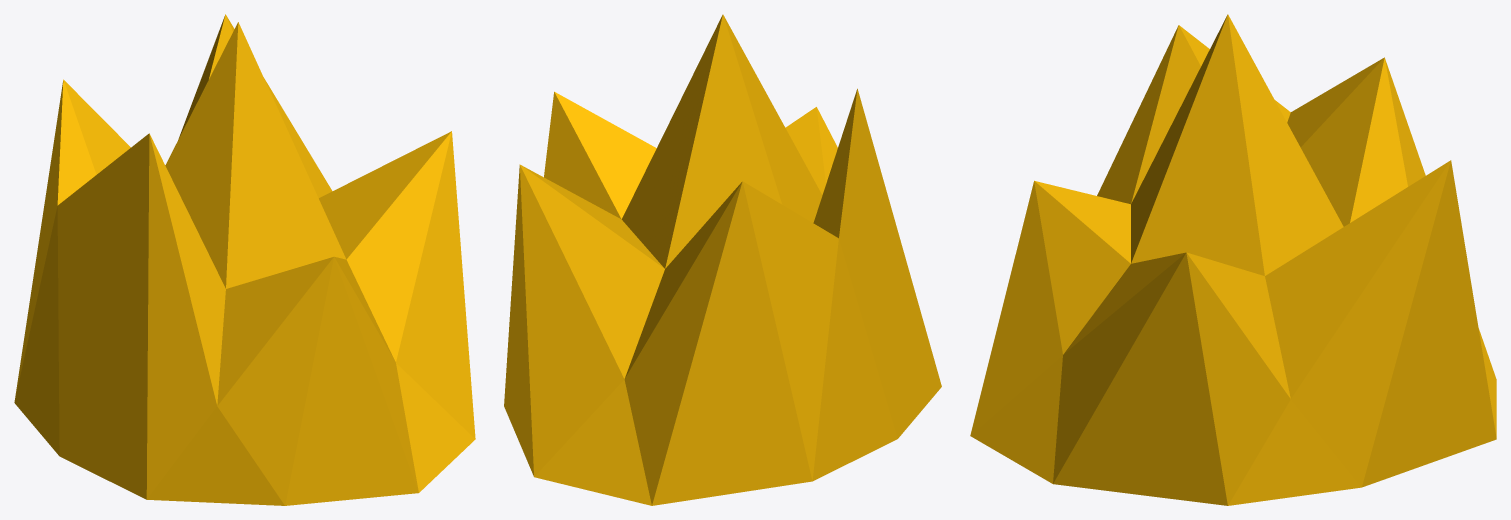
The picture shows the model from 3 angles, left to right: view 1: azimuth 30°, elevation 25°; view 2: azimuth 150°, elevation 25°; view 3: azimuth 270°, elevation 25°; orthographic projection. The views are drawn at different scales.
Visible parts, largest first — view 1: Component_1_1; view 2: Component_1_1; view 3: Component_1_1.
Boxes of the visible parts, left/top/right/bottom form: Component_1_1: left=14, top=14, right=475, bottom=505; Component_1_1: left=504, top=14, right=941, bottom=505; Component_1_1: left=970, top=14, right=1496, bottom=505.
Bounding box in the file's own units: 11.5 × 11.5 × 13.87.
